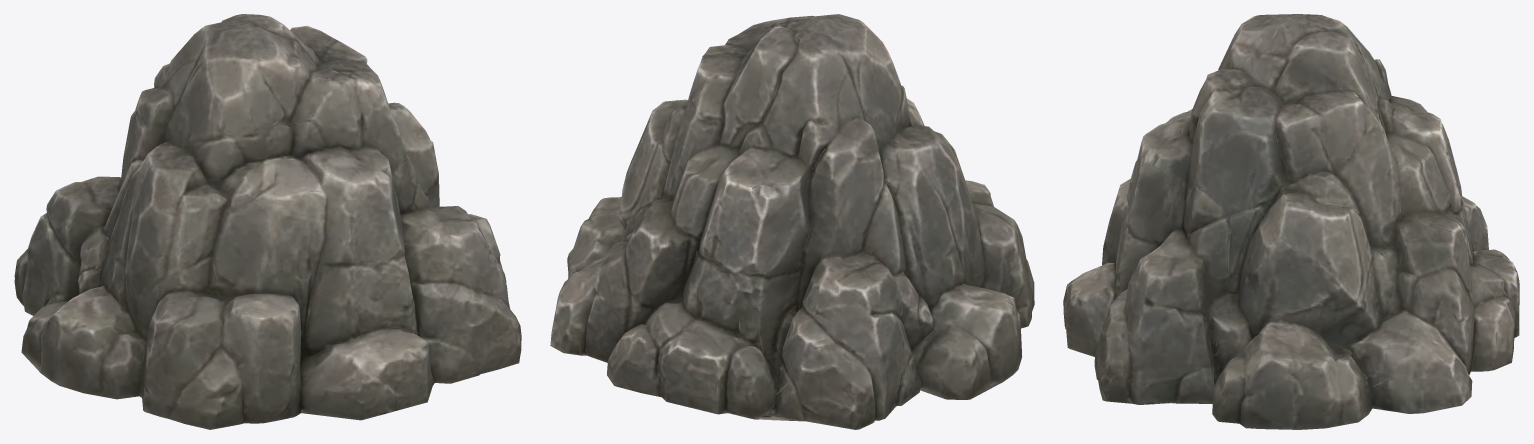
File: mx_dr_rocks.glb
The picture shows the model from 3 angles, left to right: view 1: azimuth 30°, elevation 25°; view 2: azimuth 150°, elevation 25°; view 3: azimuth 270°, elevation 25°; orthographic projection. The views are drawn at different scales.
Visible parts, largest first — view 1: Mesh1.0; view 2: Mesh1.0; view 3: Mesh1.0.
Part boxes in pixels (x1=…): Mesh1.0: x1=14, y1=14, x2=521, y2=429; Mesh1.0: x1=550, y1=14, x2=1034, y2=429; Mesh1.0: x1=1063, y1=14, x2=1519, y2=429.
Bounding box in the file's own units: 1.91 × 1.3 × 1.79.
1 material, 1 textured.
